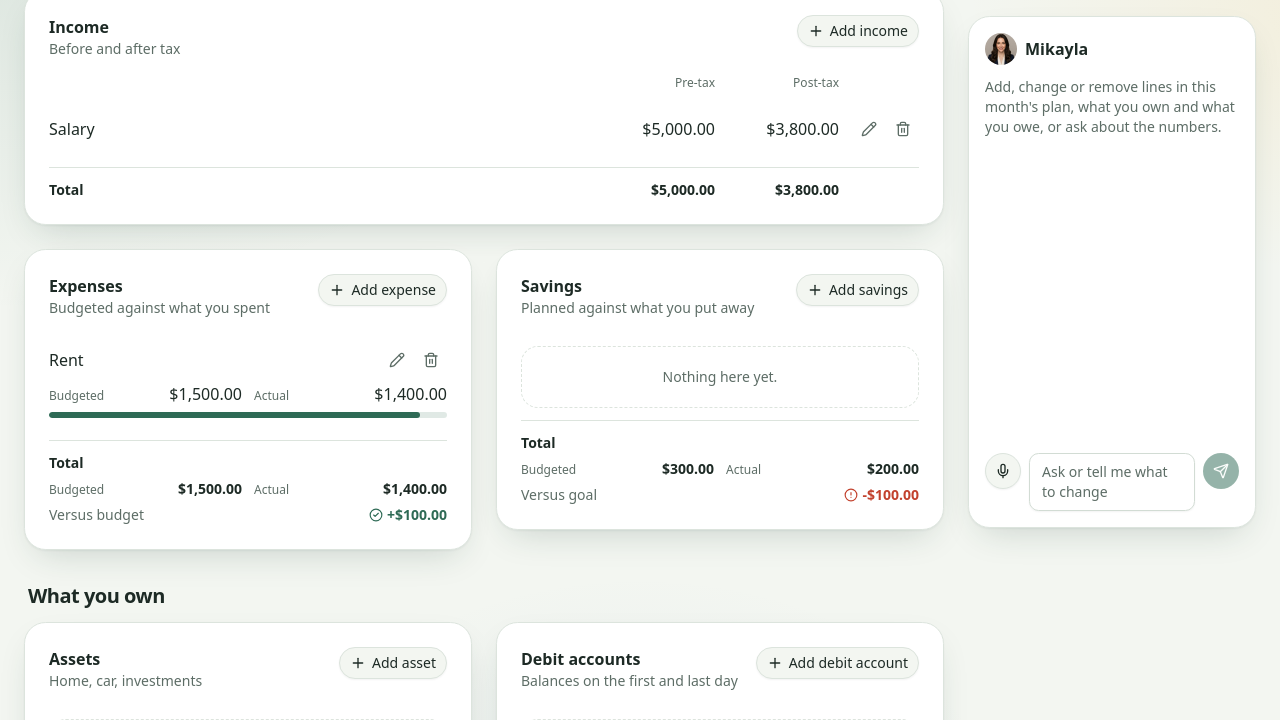
Test case: BudgetPage › ignores a reload for a month the user has already left
(page scrolled)
Click the button named "Delete Rent": (431, 360) top-left (415, 344), bottom-right (447, 376)
(page scrolled)
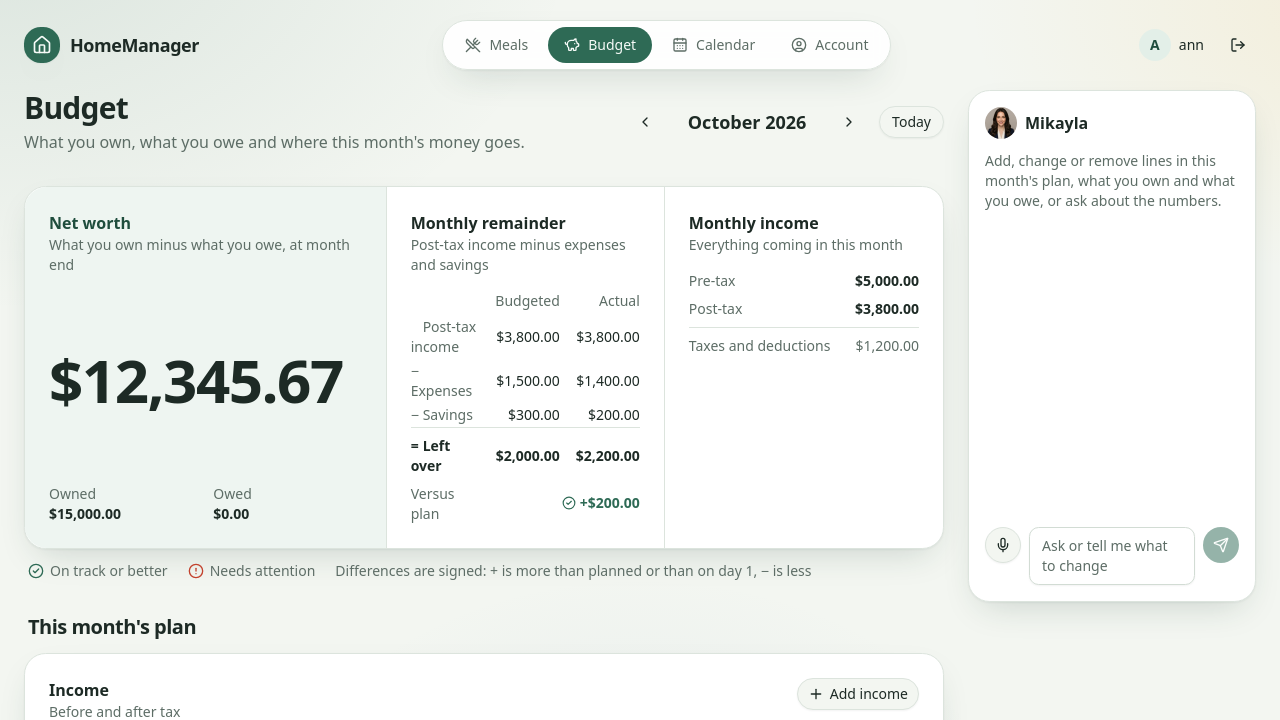
Click the button named "Next month": (849, 122) top-left (831, 104), bottom-right (867, 140)
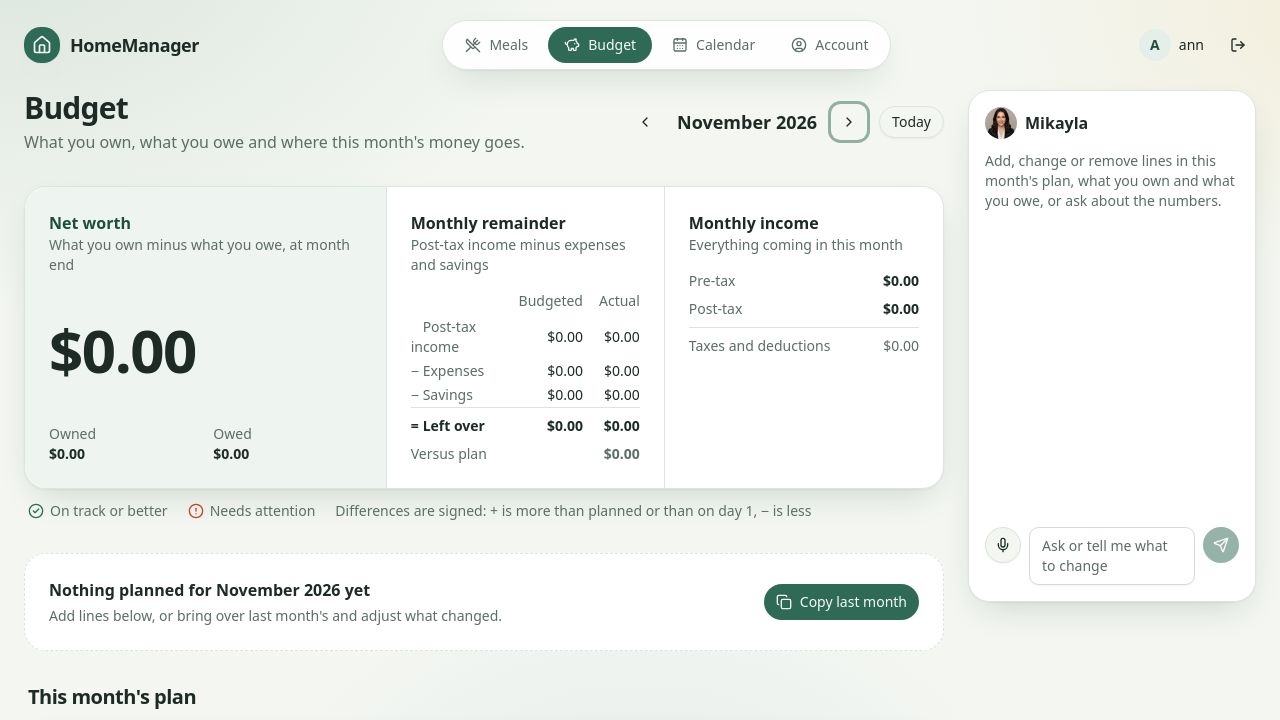
Check: the button "Copy last month" is shown, box top-left (764, 584), bottom-right (919, 620)
